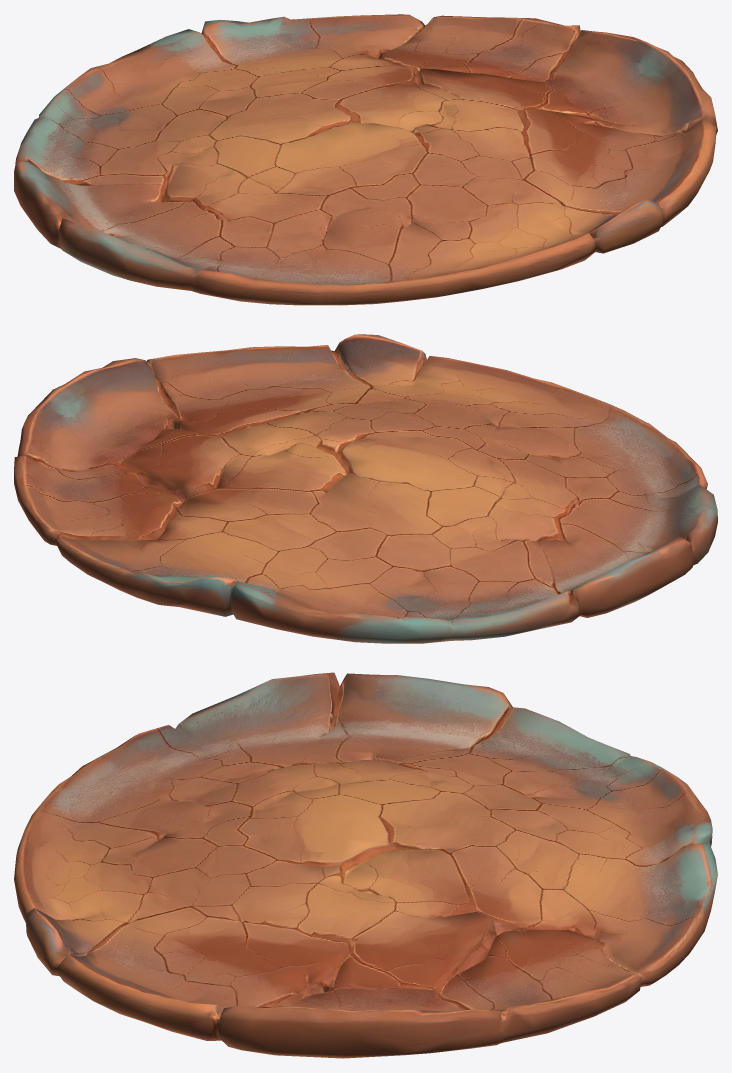
The picture shows the model from 3 angles, top to bottom: view 1: azimuth 30°, elevation 25°; view 2: azimuth 150°, elevation 25°; view 3: azimuth 270°, elevation 25°; orthographic projection. The views are drawn at different scales.
Size of the model in its own units: 2 by 0.1292 by 1.69.
1 material, 1 textured.
